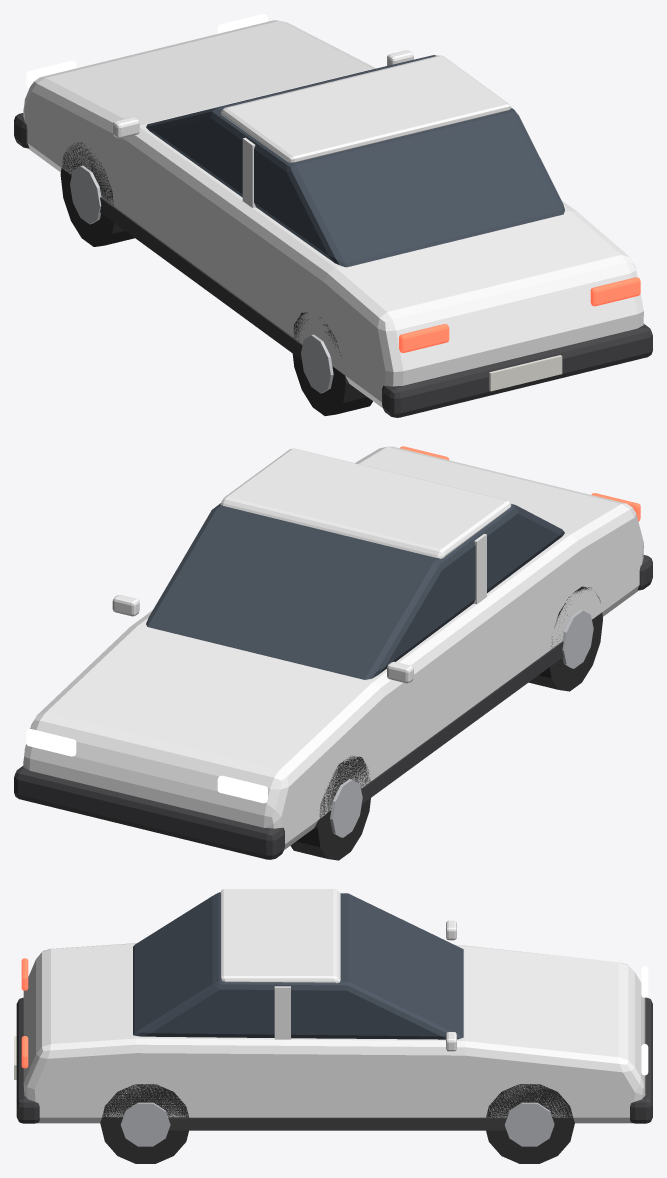
File: car_sedan.glb
3 views of the same model, one above another, from view 1: azimuth 30°, elevation 25°; view 2: azimuth 150°, elevation 25°; view 3: azimuth 270°, elevation 25° (orthographic). The views are drawn at different scales.
Visible parts, largest first — view 1: car; view 2: car; view 3: car.
Boxes of the visible parts, <box> form: car: <box>14,14,652,417</box>; car: <box>14,446,652,860</box>; car: <box>14,889,652,1163</box>.
Bounding box in the file's own units: 2.08 × 1.44 × 4.66.
